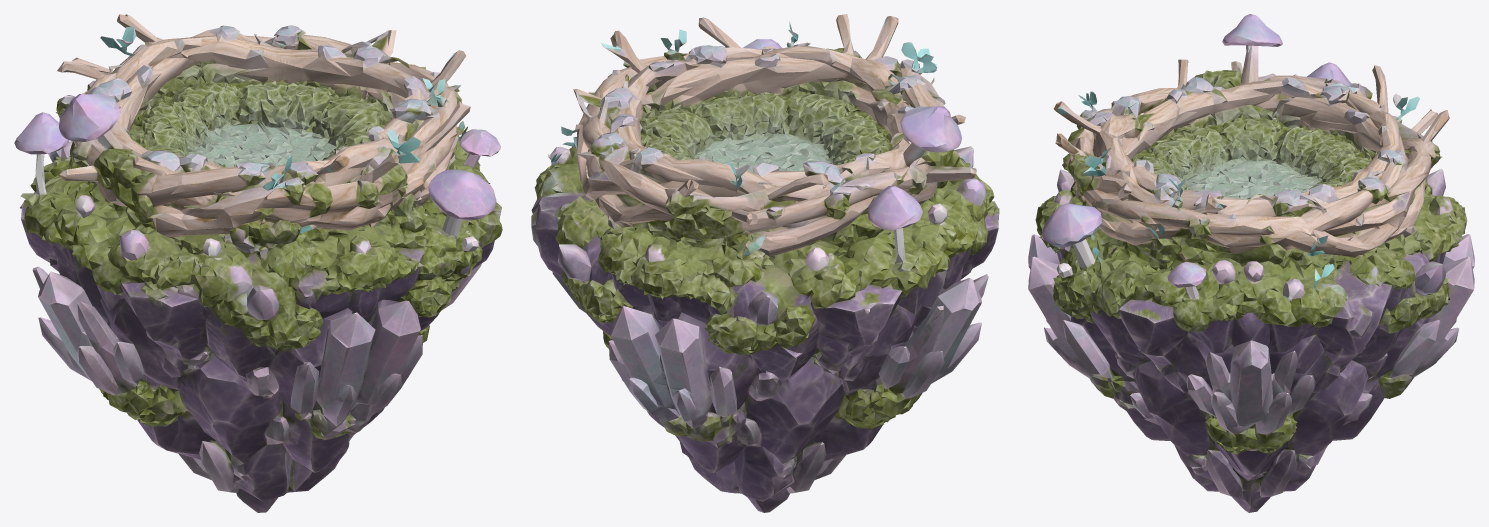
File: prop-nest.glb
3 renders of one model, left to right at view 1: azimuth 30°, elevation 25°; view 2: azimuth 150°, elevation 25°; view 3: azimuth 270°, elevation 25°, orthographic. The views are drawn at different scales.
Bounding box in the file's own units: 1.9 × 1.9 × 1.84.
1 material, 1 textured.
